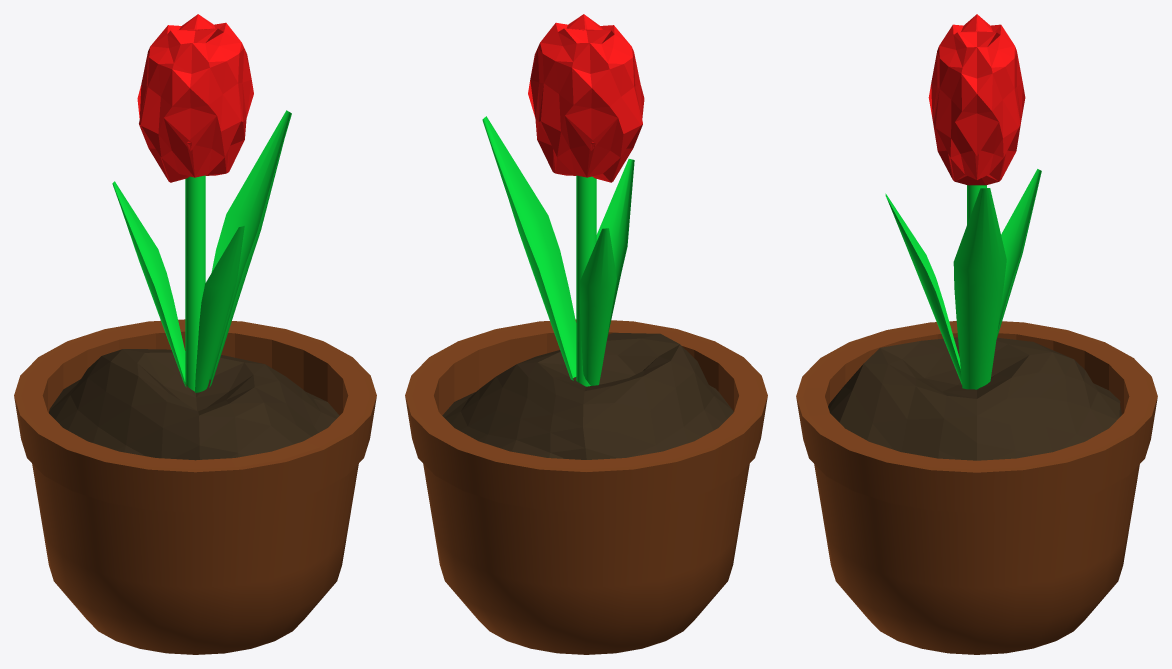
Rendered from FlowerPot.FBX.
3 renders of one model, left to right at view 1: azimuth 30°, elevation 25°; view 2: azimuth 150°, elevation 25°; view 3: azimuth 270°, elevation 25°, orthographic.
Visible parts, largest first — view 1: Cone001; view 2: Cone001; view 3: Cone001.
Boxes of the visible parts, x1,y1,x2,y2 form: Cone001: (14,14,376,654); Cone001: (405,14,767,654); Cone001: (796,14,1157,654).
Bounding box in the file's own units: 51.98 × 92.18 × 51.98.
